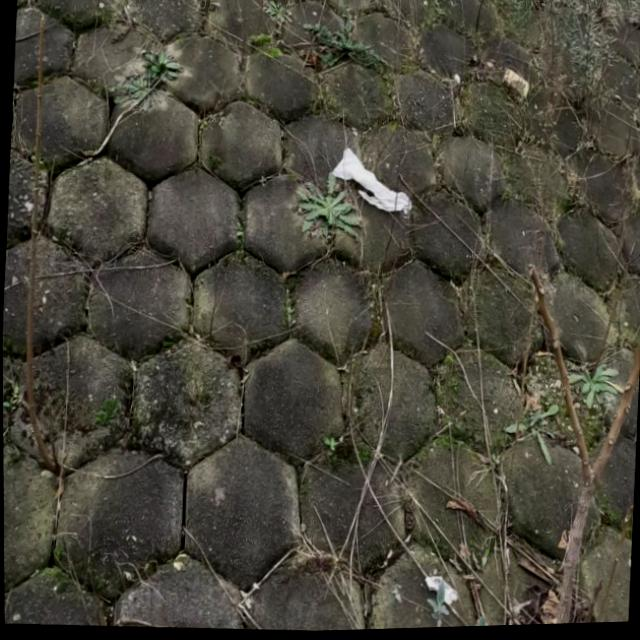Paper: (326, 145, 415, 223)
